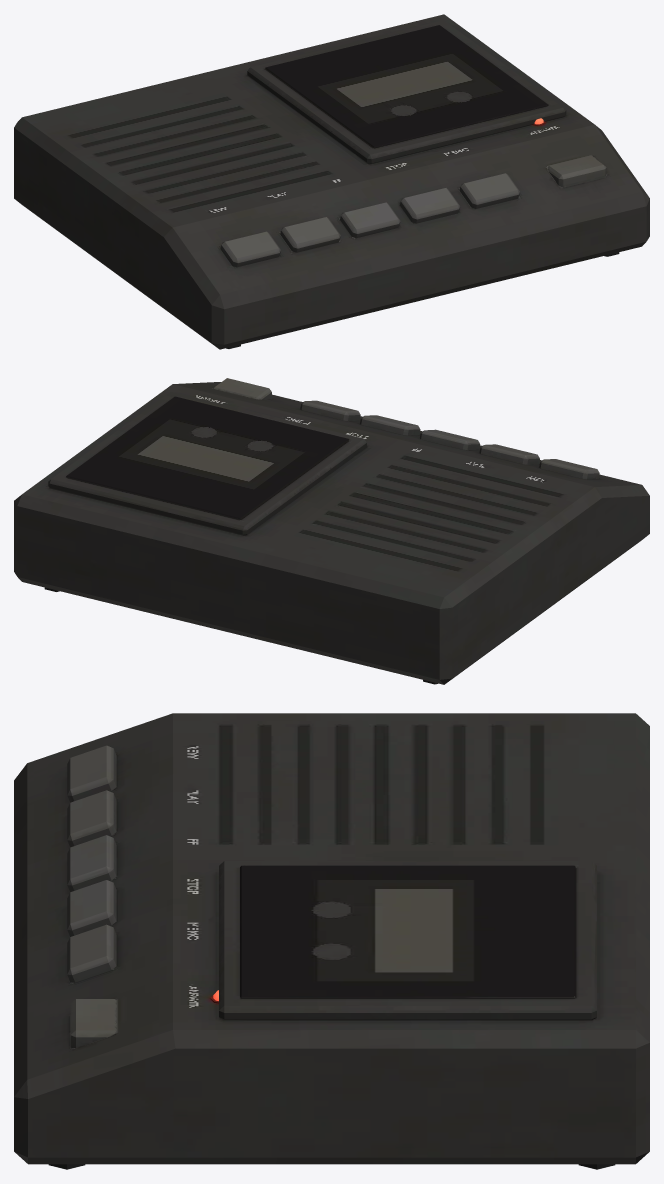
File: answering_machine.glb
The picture shows the model from 3 angles, top to bottom: view 1: azimuth 30°, elevation 25°; view 2: azimuth 150°, elevation 25°; view 3: azimuth 270°, elevation 25°; orthographic projection. The views are drawn at different scales.
Parts seen in each view (by area): view 1: answering_machine; view 2: answering_machine; view 3: answering_machine.
Boxes of the visible parts, x1=… form: answering_machine: x1=14, y1=14, x2=649, y2=349; answering_machine: x1=14, y1=378, x2=649, y2=684; answering_machine: x1=14, y1=713, x2=649, y2=1169.
Size of the model in its own units: 0.22 by 0.0508 by 0.18.
2 materials, 1 textured.
